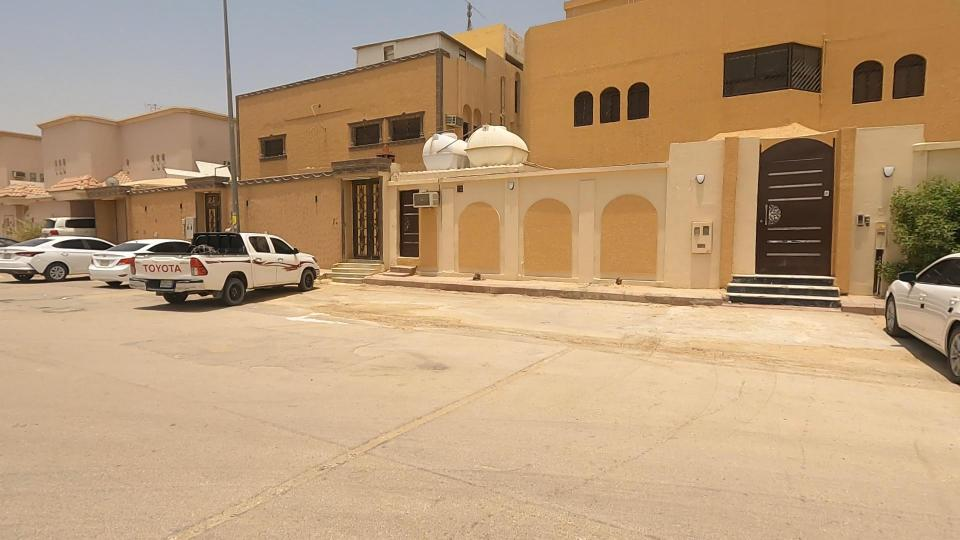POTHOLES: (463, 292, 670, 376), (591, 312, 797, 391), (273, 292, 467, 340)
